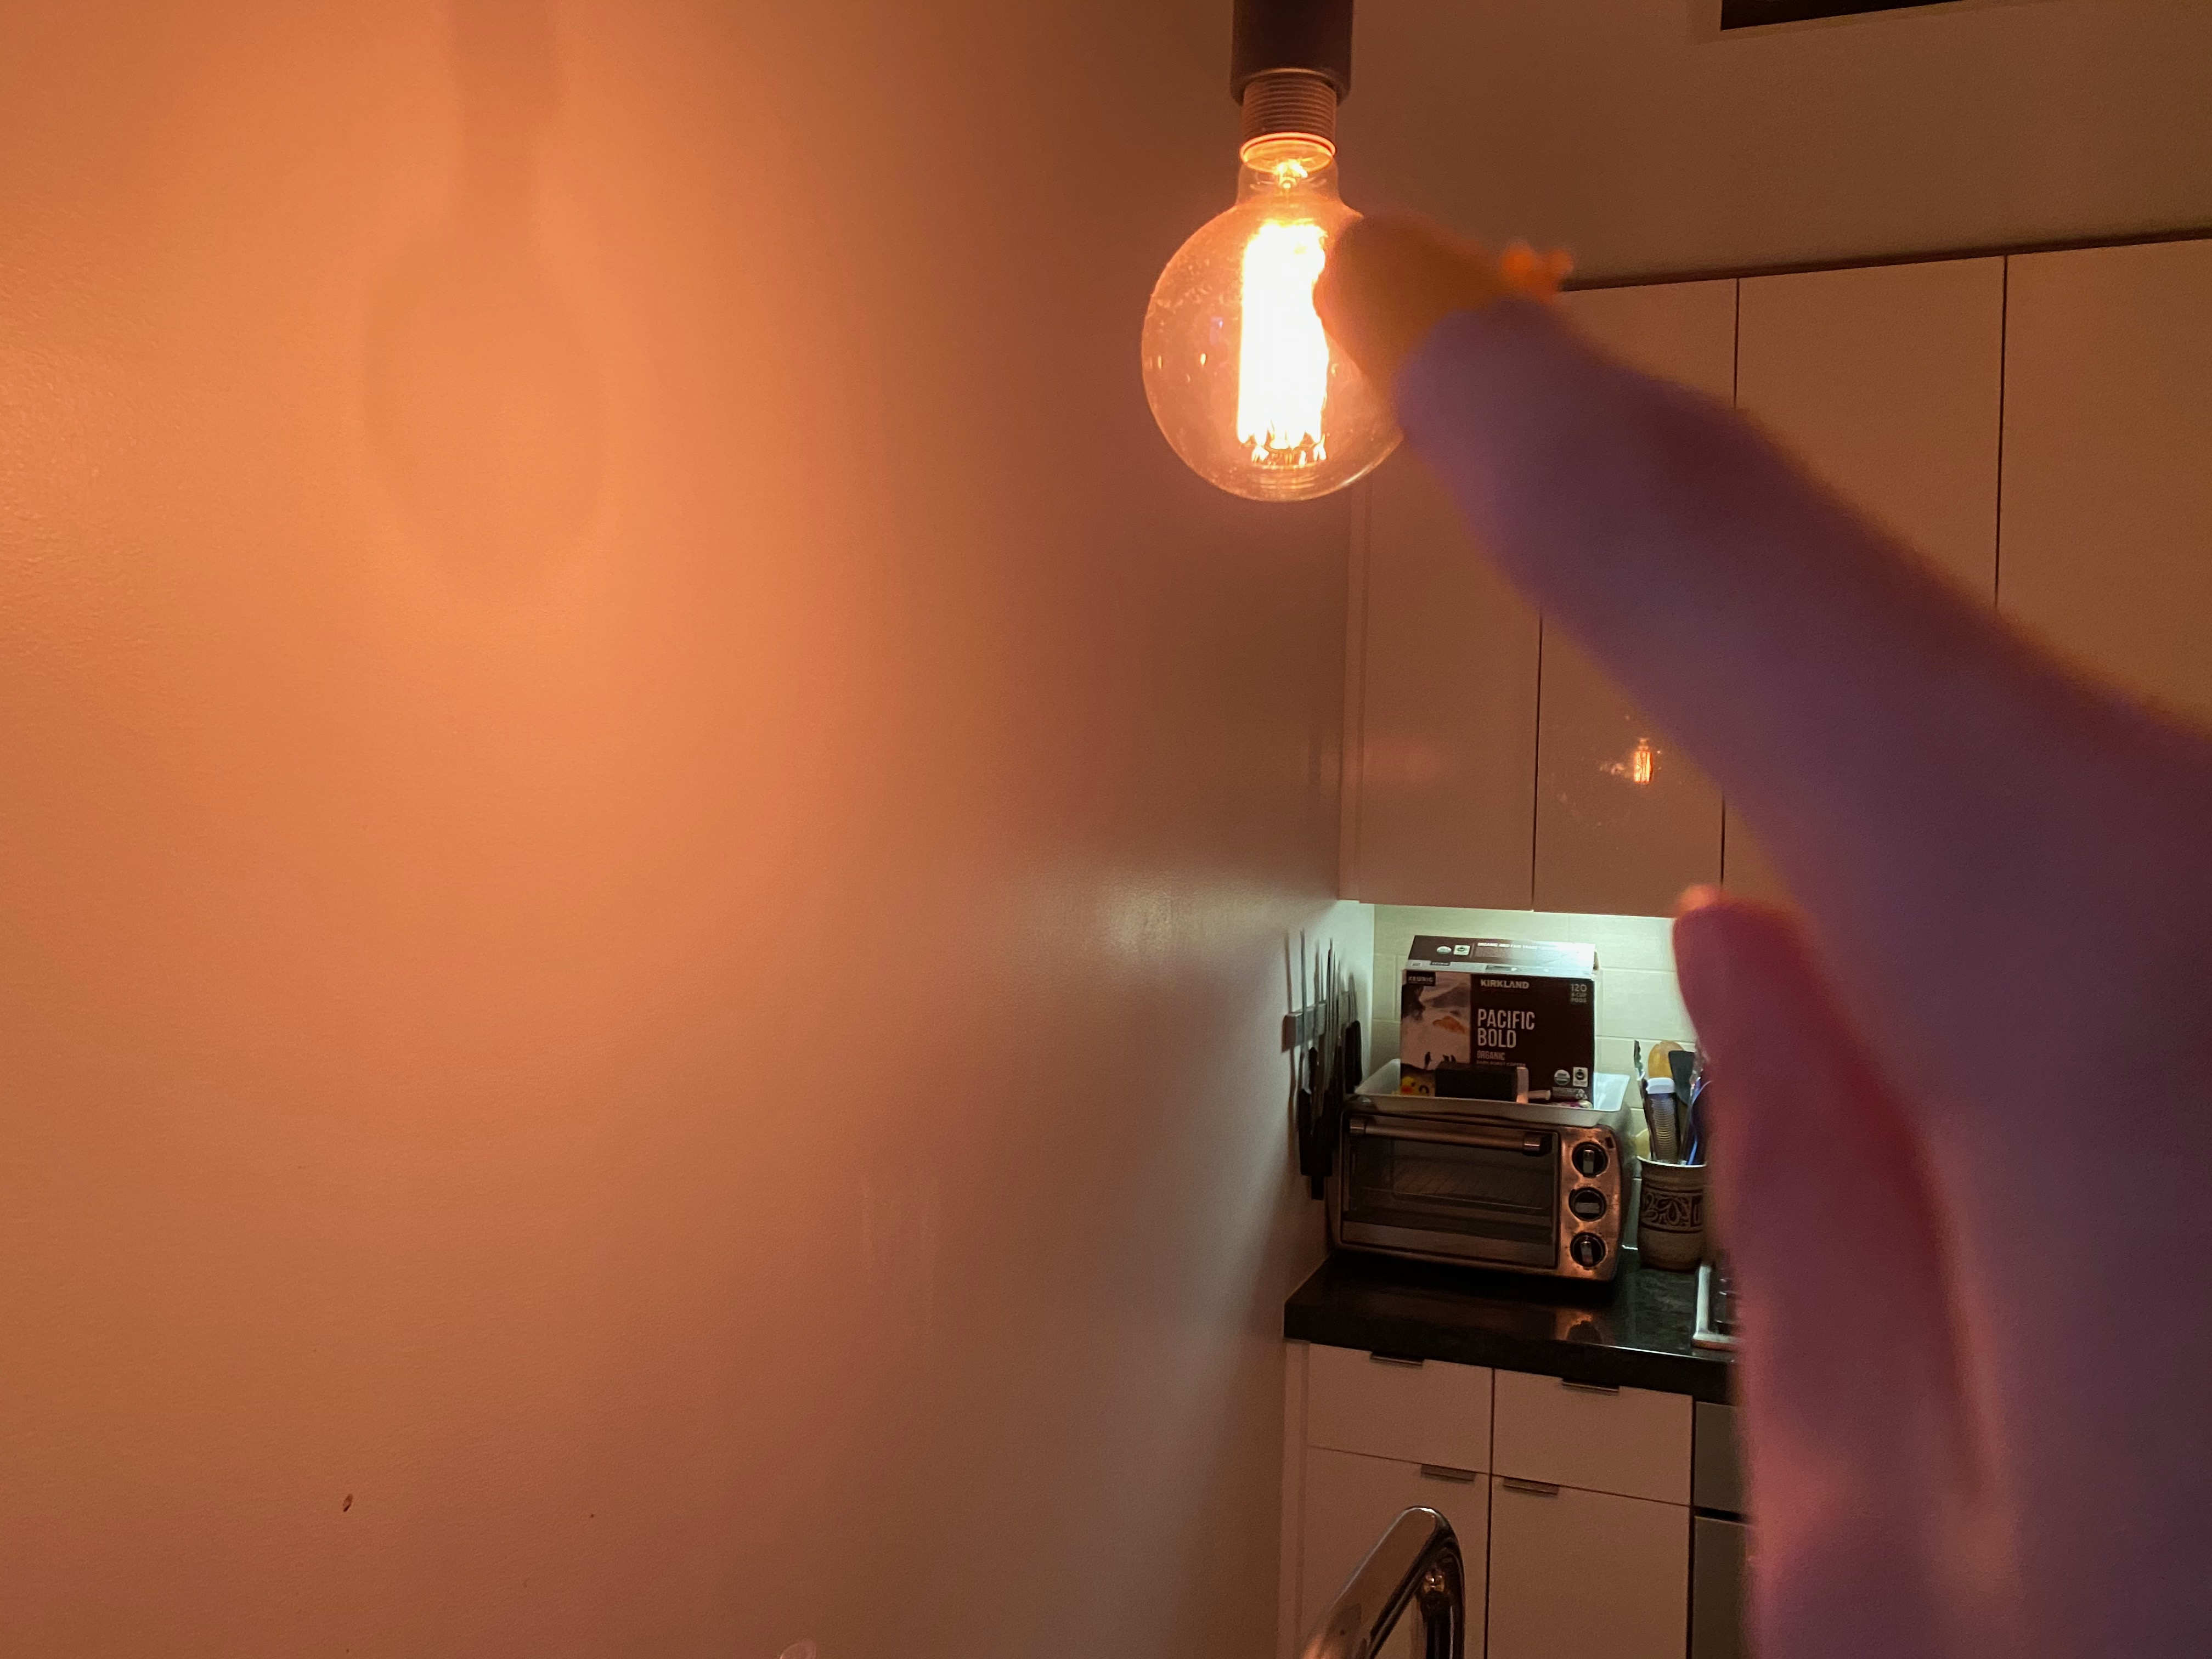fingertip: (1294, 192, 1611, 416)
